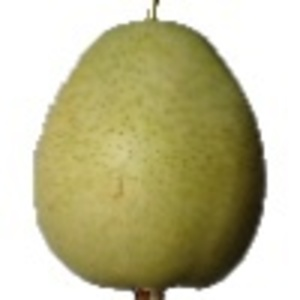pera: (31, 1, 267, 300)
